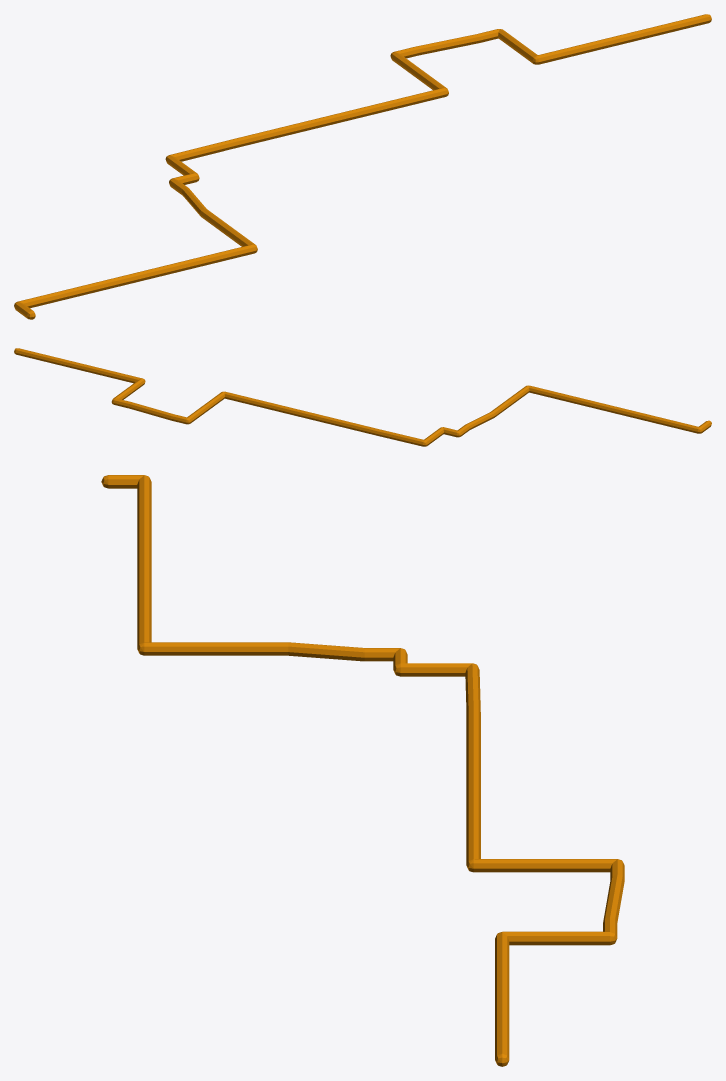
The picture shows the model from 3 angles, top to bottom: view 1: azimuth 30°, elevation 25°; view 2: azimuth 150°, elevation 25°; view 3: azimuth 270°, elevation 25°; orthographic projection. The views are drawn at different scales.
Size of the model in its own units: 1922 by 20 by 728.
